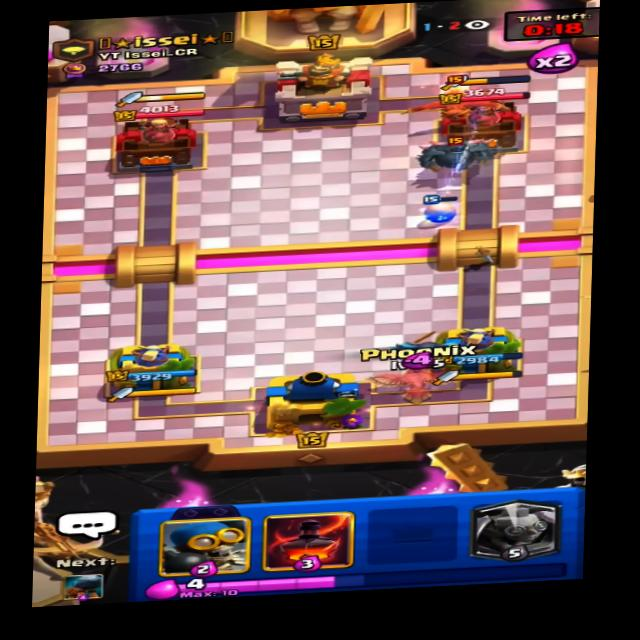Pekka: (417, 125, 501, 180)
Pheonix: (397, 74, 523, 128)
